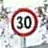limite 30: (9, 6, 38, 35)
